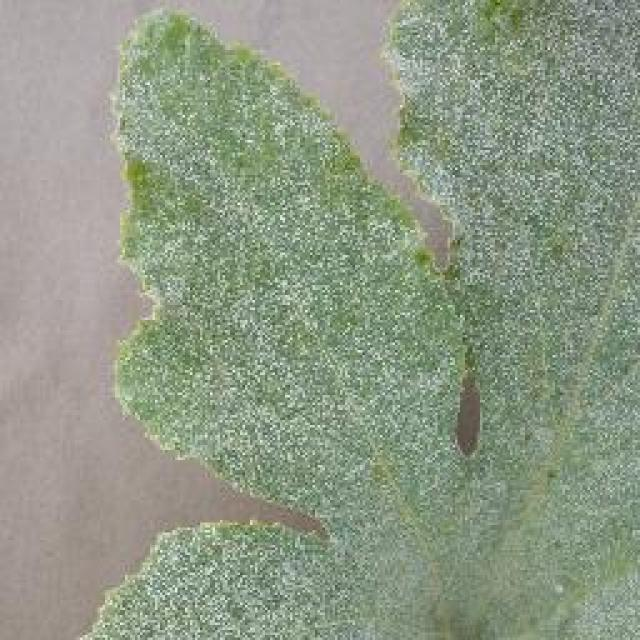Squ_Powdery_mildew: (156, 131, 618, 595)
